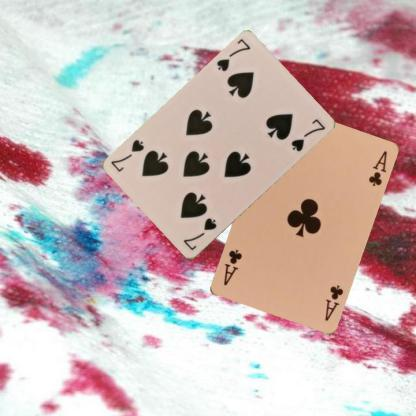7s: (214, 36, 252, 73), (180, 216, 218, 252)
Ac: (322, 282, 344, 322)
